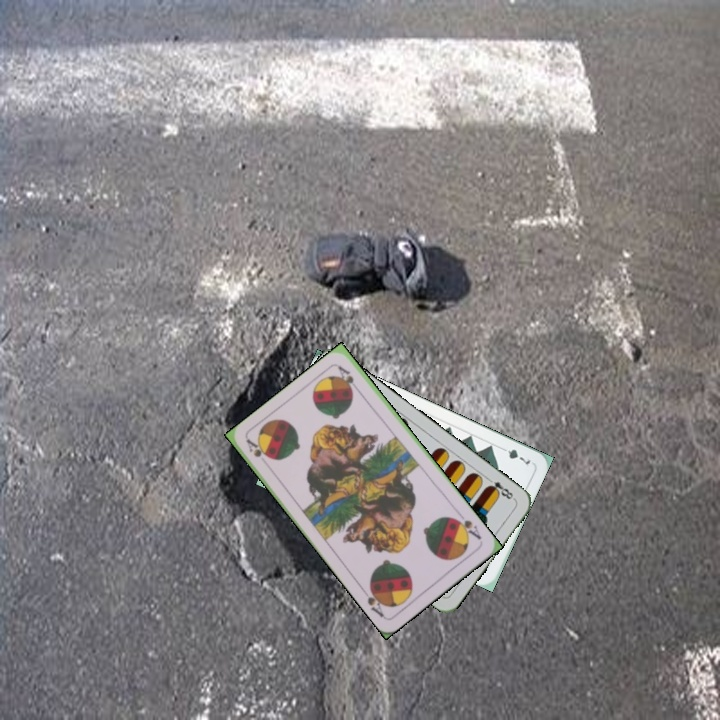E8: (483, 473, 518, 503)
G7: (496, 443, 533, 467)
SA: (450, 514, 484, 542), (243, 435, 272, 462)
